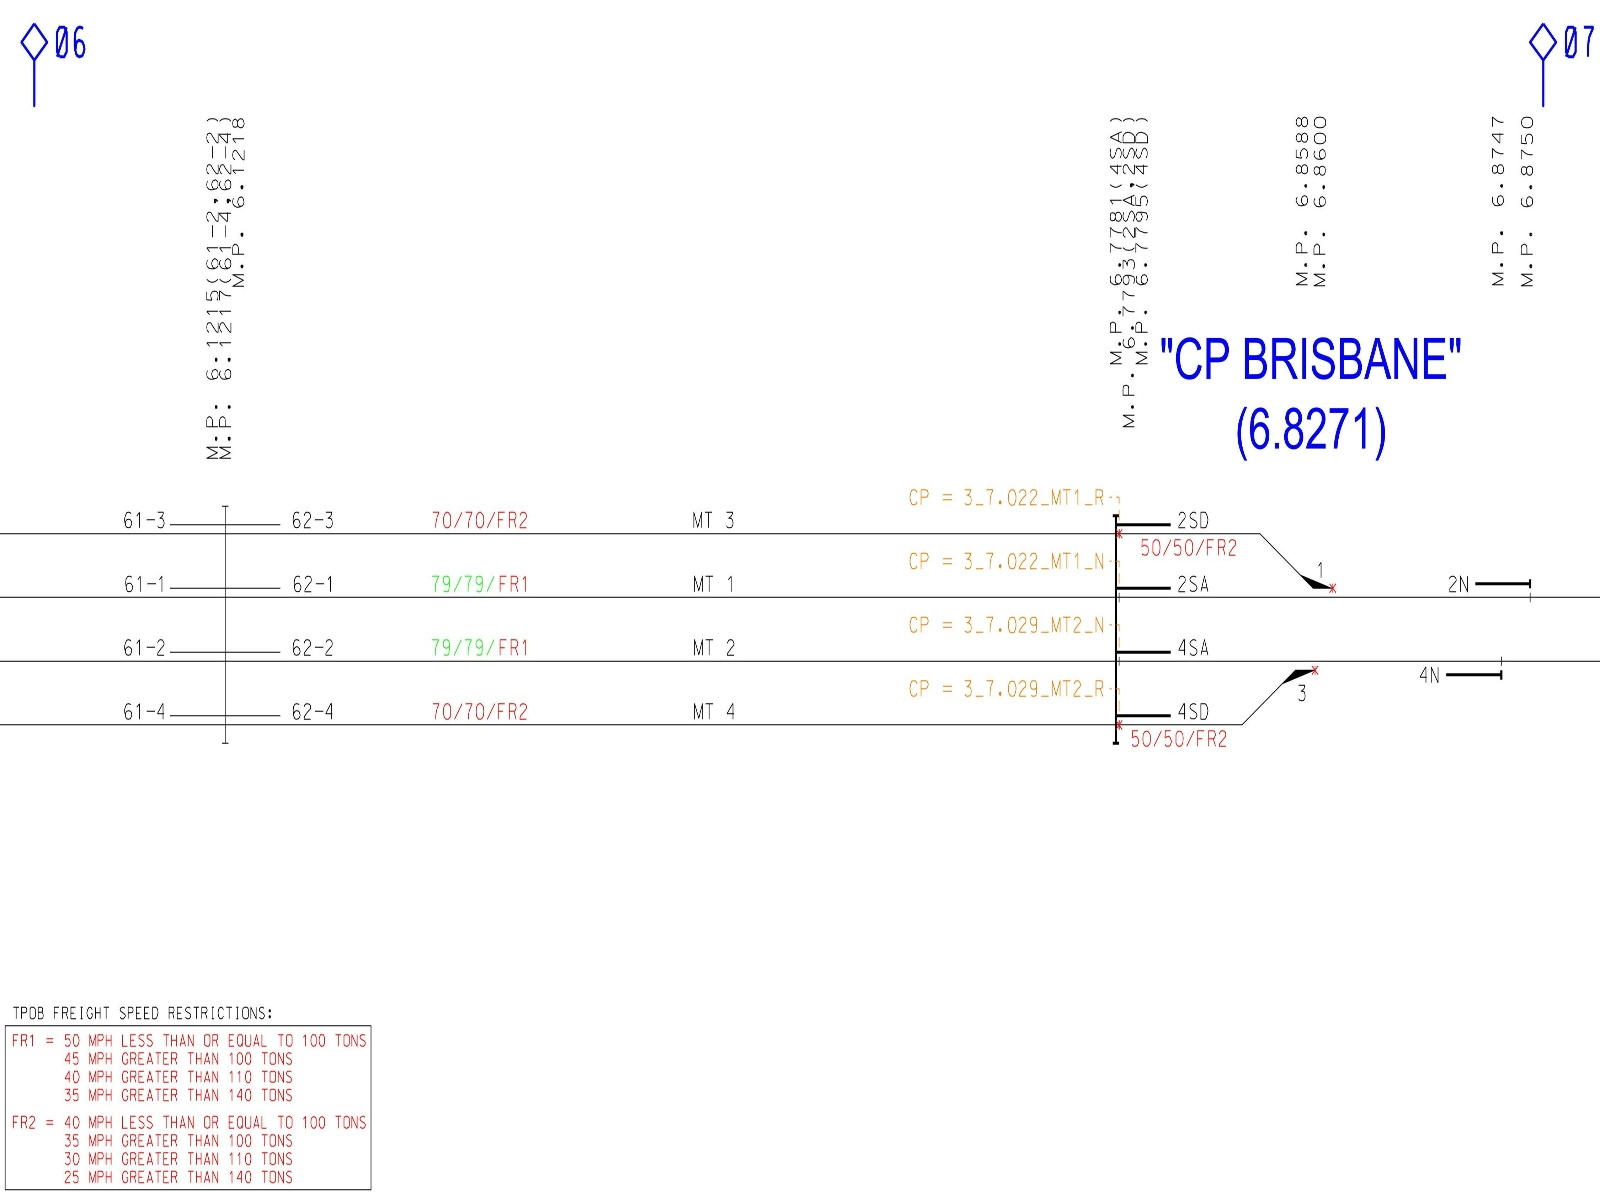leftSignal: (1405, 655, 1519, 695), (1434, 568, 1548, 606)
milepost: (1259, 100, 1364, 299), (1458, 105, 1563, 303)
rightSignal: (1109, 505, 1223, 545), (1107, 568, 1221, 608), (1110, 633, 1225, 671), (1107, 696, 1221, 734)
switch: (1288, 546, 1356, 609), (1270, 652, 1338, 715)
